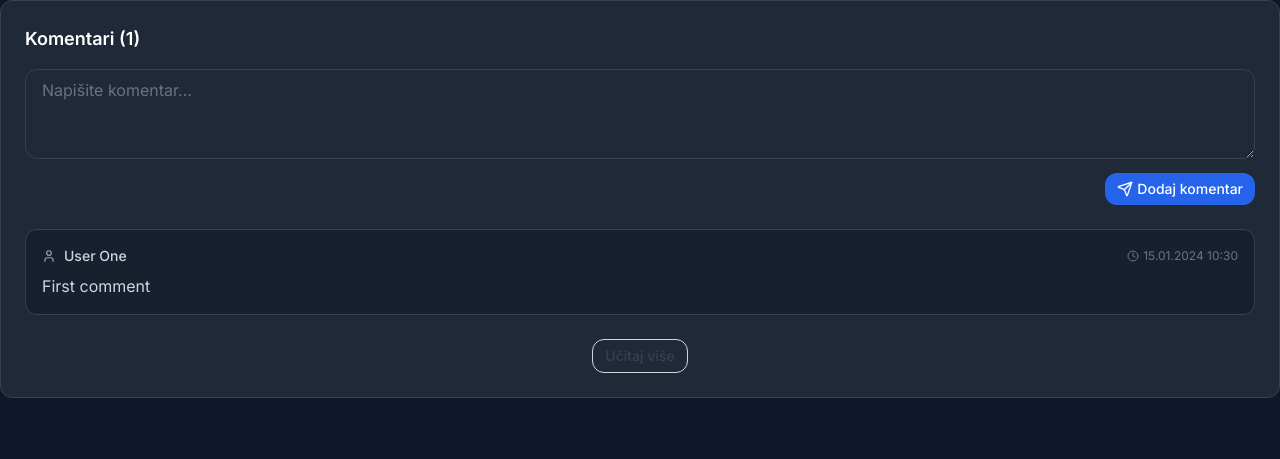
Test: TicketComments › should load more comments when button clicked
Expected: the text "First comment" is shown, [42, 276, 150, 296]
Click the button "Učitaj više" at (640, 356), box [592, 339, 688, 373]
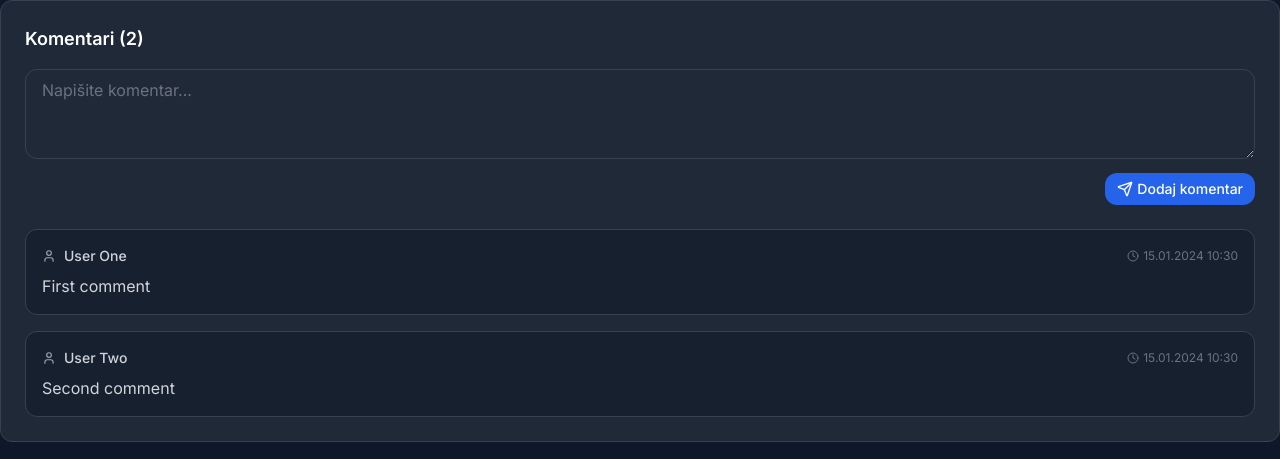
Expected: the text "First comment" is shown, [42, 276, 150, 296]
Now the text "Second comment" is shown, box [42, 378, 175, 398]
